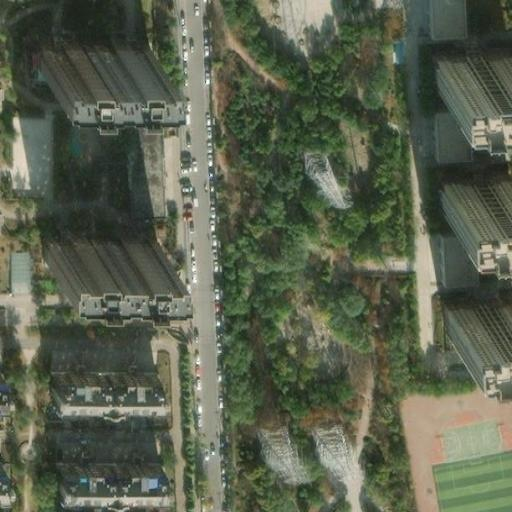building: (296, 137, 350, 213), (48, 360, 153, 397), (34, 42, 149, 75), (42, 234, 156, 267), (254, 418, 308, 487), (48, 449, 157, 481), (420, 43, 504, 82), (428, 166, 511, 204), (434, 285, 512, 323), (17, 112, 52, 192), (123, 139, 155, 208), (429, 104, 463, 158), (438, 232, 462, 288), (4, 246, 24, 286), (0, 460, 15, 502)
